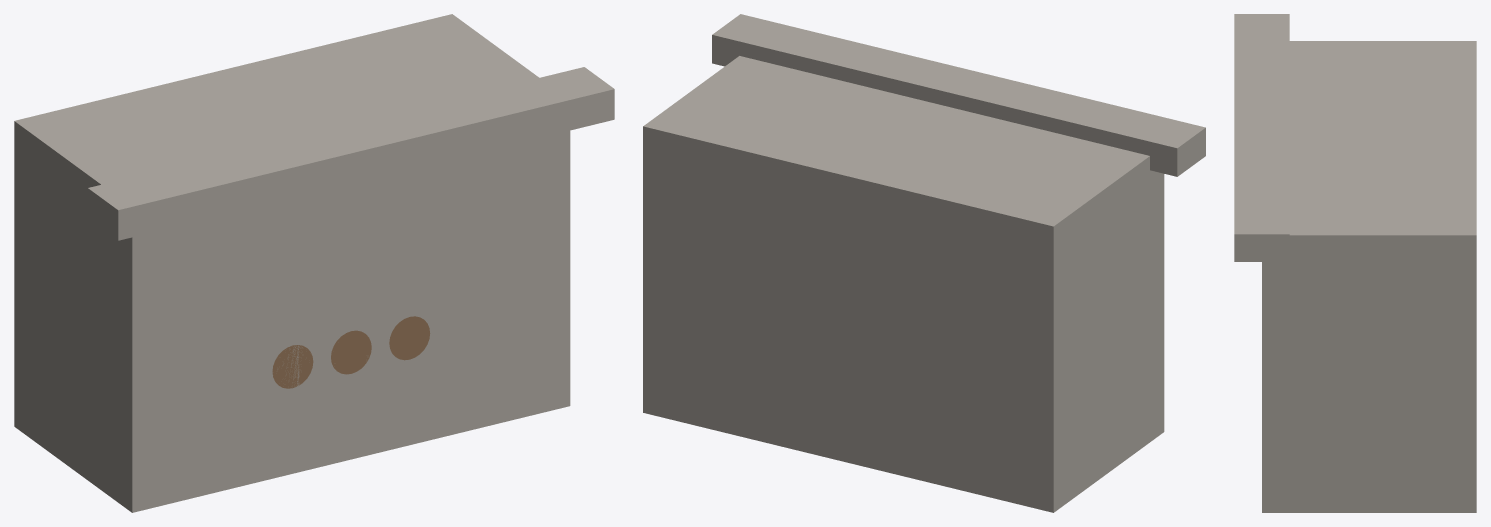
The model's file is FireplaceHearth.fbx.
3 renders of one model, left to right at view 1: azimuth 30°, elevation 25°; view 2: azimuth 150°, elevation 25°; view 3: azimuth 270°, elevation 25°, orthographic. The views are drawn at different scales.
Visible parts, largest first — view 1: FireplaceHearth; view 2: FireplaceHearth; view 3: FireplaceHearth.
Boxes of the visible parts, bbox=[...] form: FireplaceHearth: bbox=[14, 14, 614, 512]; FireplaceHearth: bbox=[643, 14, 1205, 512]; FireplaceHearth: bbox=[1234, 14, 1476, 512].
Size of the model in its own units: 170 by 105 by 79.
